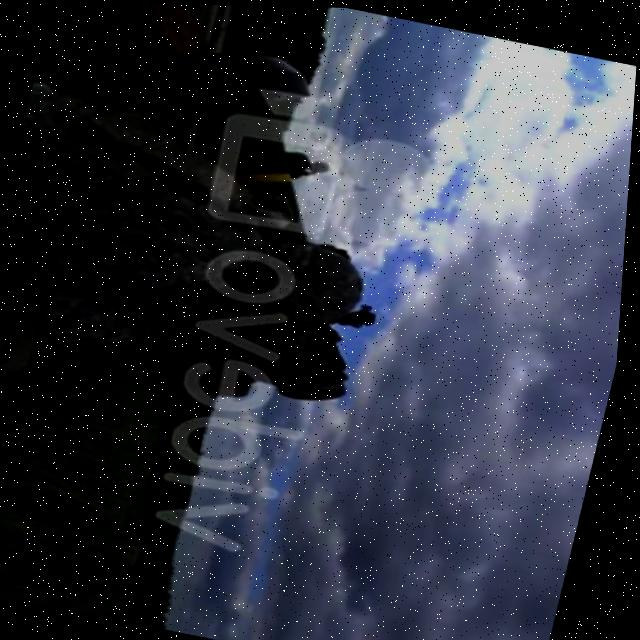rocket: (111, 24, 341, 241)
